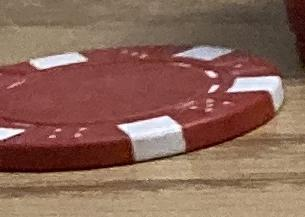Chip: (1, 1, 305, 217)
